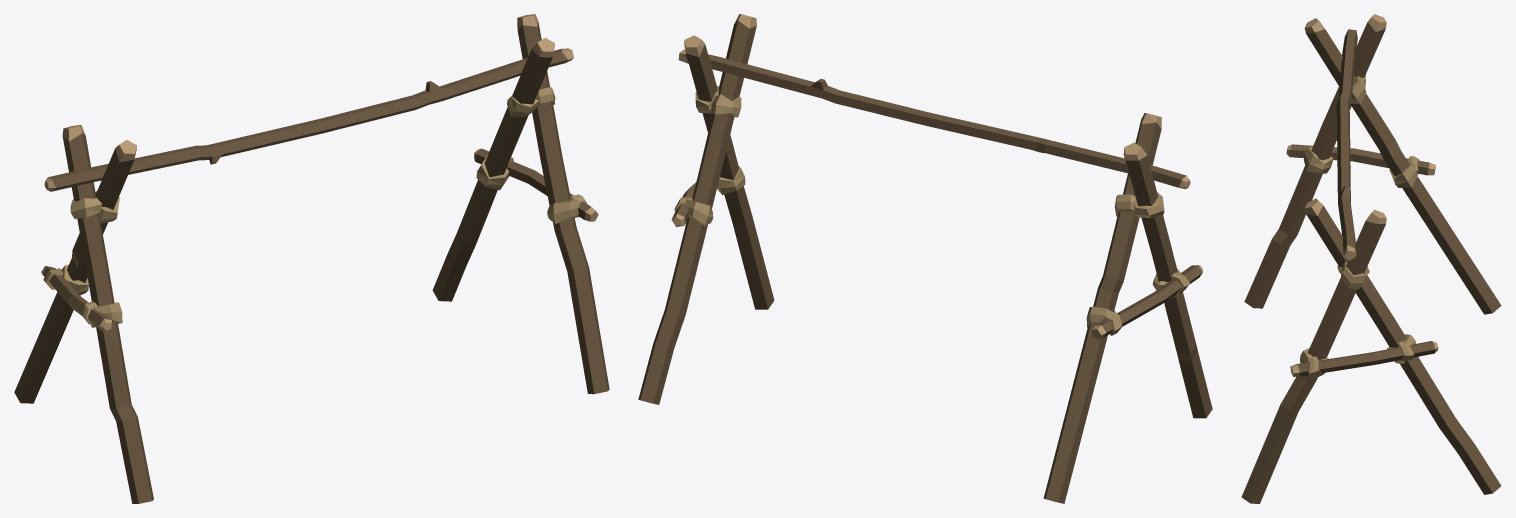
The model's file is Estante_01.glb.
The picture shows the model from 3 angles, left to right: view 1: azimuth 30°, elevation 25°; view 2: azimuth 150°, elevation 25°; view 3: azimuth 270°, elevation 25°; orthographic projection. The views are drawn at different scales.
Visible parts, largest first — view 1: SM_Prop_Fish_Rack_02_1; view 2: SM_Prop_Fish_Rack_02_1; view 3: SM_Prop_Fish_Rack_02_1.
Part boxes in pixels (left/top/right/bottom): SM_Prop_Fish_Rack_02_1: left=14, top=14, right=609, bottom=503; SM_Prop_Fish_Rack_02_1: left=638, top=14, right=1212, bottom=503; SM_Prop_Fish_Rack_02_1: left=1241, top=14, right=1501, bottom=503.
Size of the model in its own units: 3.4 by 2.07 by 1.65.
1 material, 1 textured.
